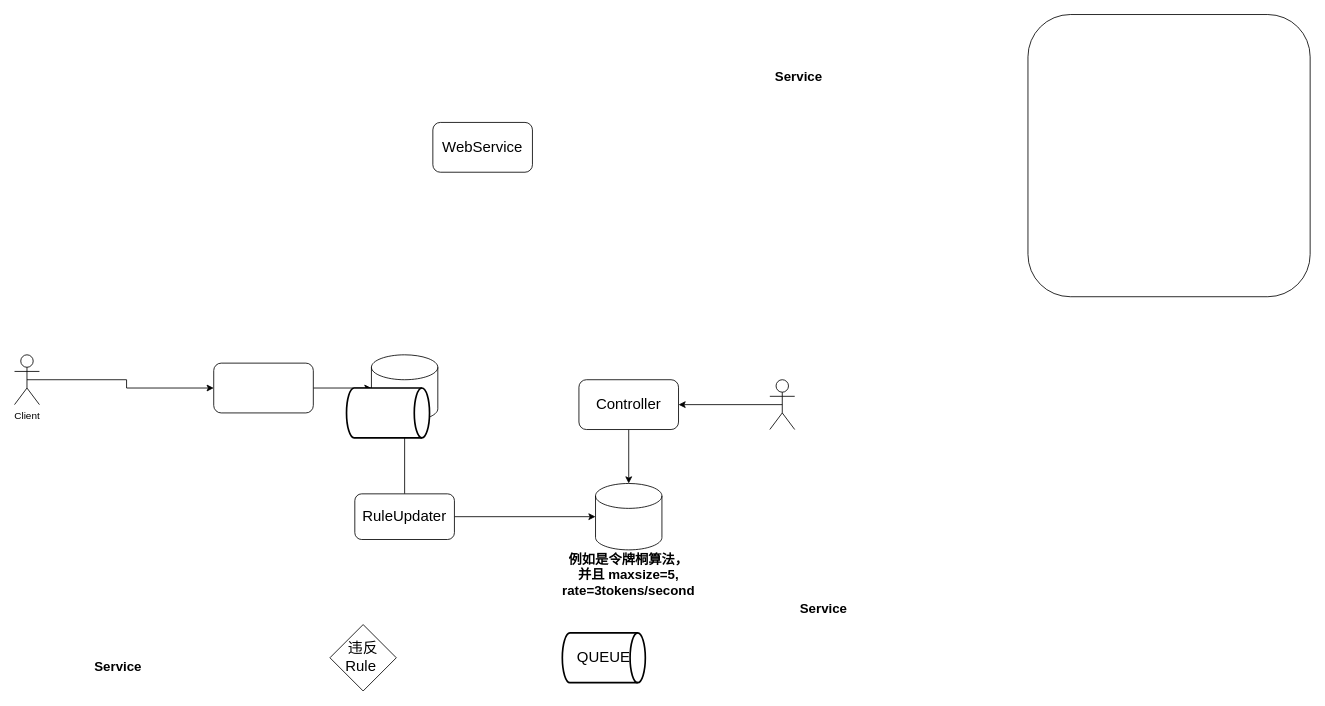
This 1325x706 diagram has some shape labels left out. Here are the shapes that lost their labels. From the top down, the centre of each, then its label:
point (263, 387): RateLimiter
point (782, 404): Actor
point (628, 516): RateLimitingRules
